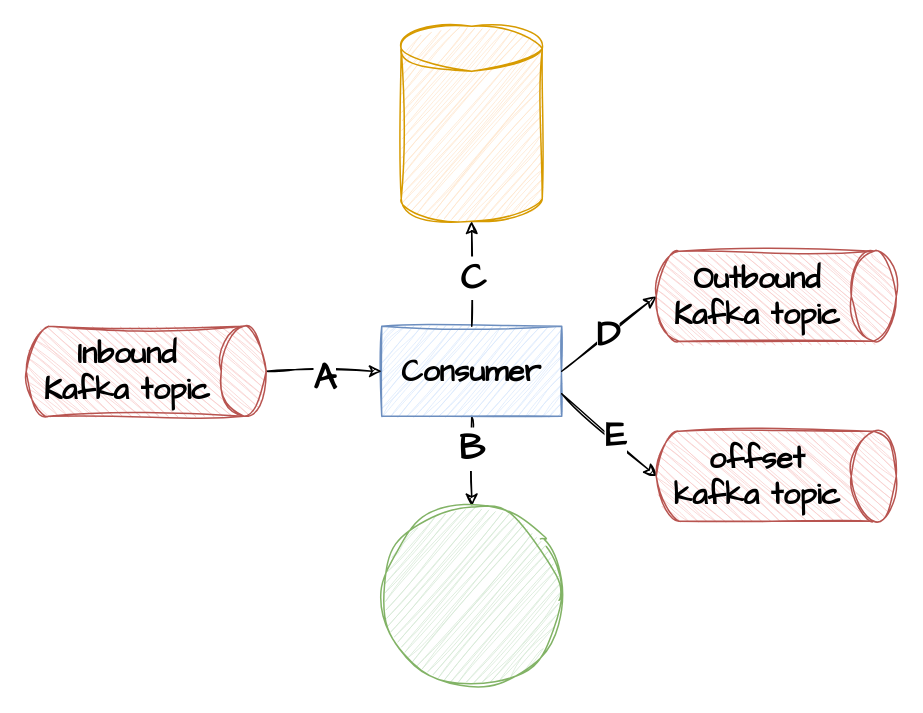
Image size: 923x713. Some labels were removed from this diagram. The centre of each missing label's shape, as x and y in pixels:
"Database" goes at [471,123].
"Third Party Service" goes at [471,595].
